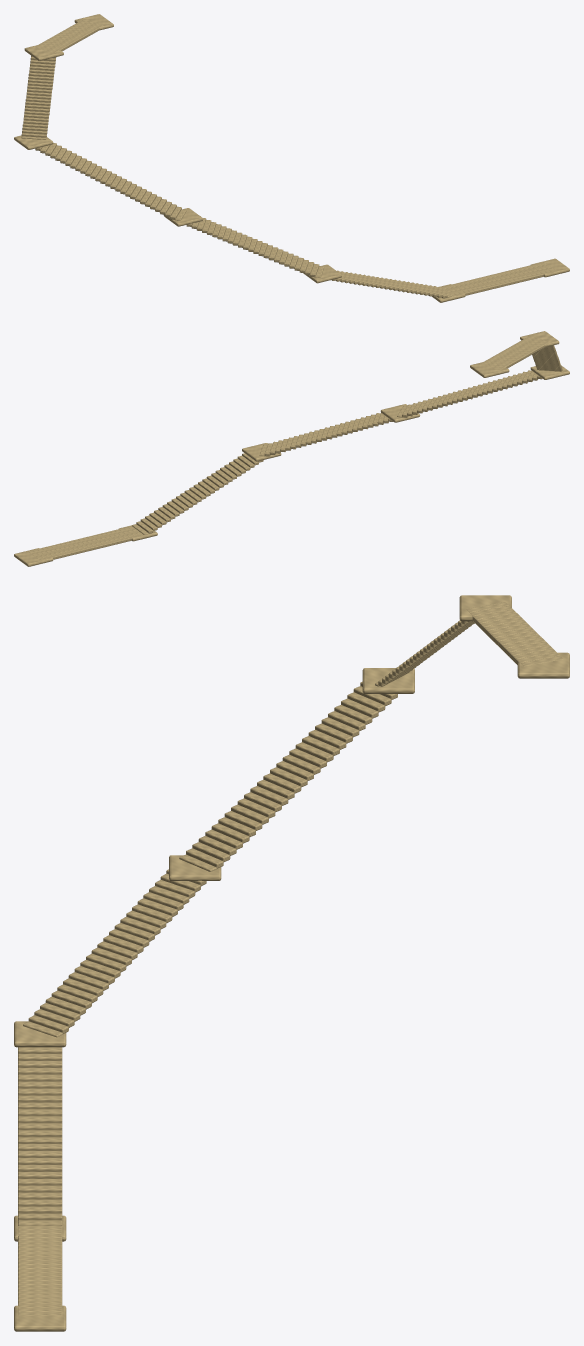
The model's file is Stairs.fbx.
3 renders of one model, top to bottom at view 1: azimuth 30°, elevation 25°; view 2: azimuth 210°, elevation 25°; view 3: azimuth 270°, elevation 25°, orthographic. The views are drawn at different scales.
Visible parts, largest first — view 1: Stairs; view 2: Stairs; view 3: Stairs.
Boxes of the visible parts, left/top/right/bottom form: Stairs: left=14, top=14, right=569, bottom=302; Stairs: left=14, top=331, right=569, bottom=566; Stairs: left=14, top=595, right=569, bottom=1331.
Bounding box in the file's own units: 4670 × 2870 × 2213.
